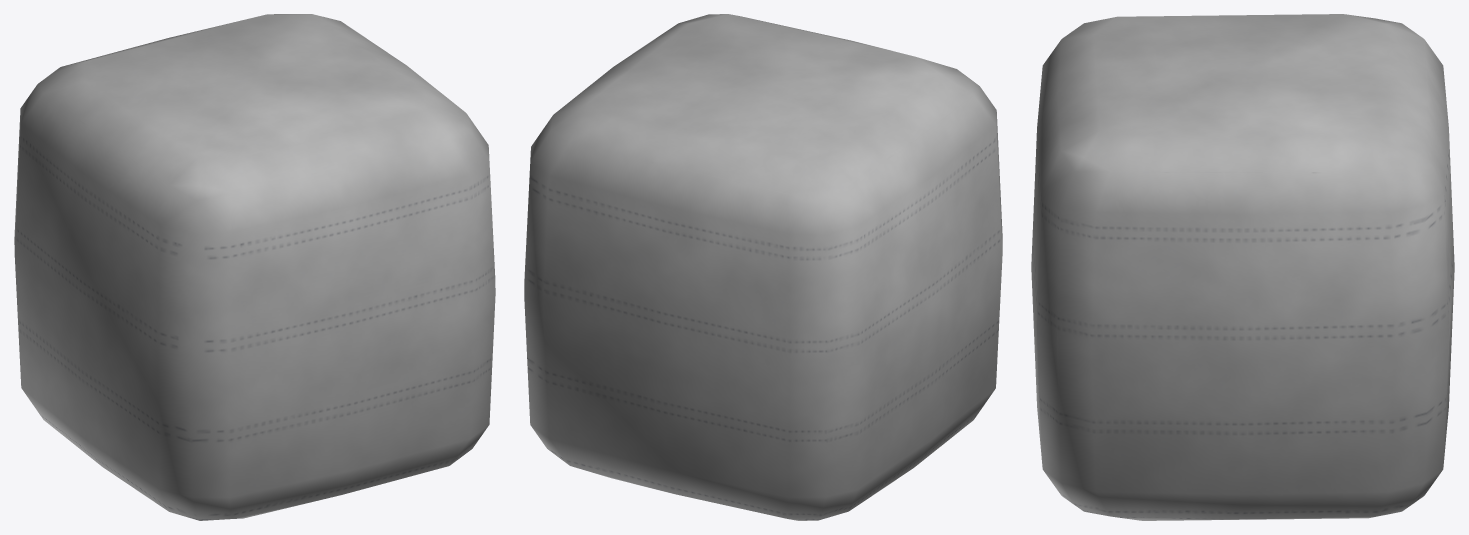
Rendered from RightUpperArm_C1.fbx.
The picture shows the model from 3 angles, left to right: view 1: azimuth 30°, elevation 25°; view 2: azimuth 150°, elevation 25°; view 3: azimuth 270°, elevation 25°; orthographic projection. The views are drawn at different scales.
Visible parts, largest first — view 1: Civ_PilotoLargo_RightUpperArm_C1; view 2: Civ_PilotoLargo_RightUpperArm_C1; view 3: Civ_PilotoLargo_RightUpperArm_C1.
Boxes of the visible parts, x1=… form: Civ_PilotoLargo_RightUpperArm_C1: x1=14, y1=14, x2=495, y2=520; Civ_PilotoLargo_RightUpperArm_C1: x1=524, y1=14, x2=1002, y2=520; Civ_PilotoLargo_RightUpperArm_C1: x1=1031, y1=14, x2=1454, y2=520.
Bounding box in the file's own units: 1.29 × 1.31 × 1.29.
